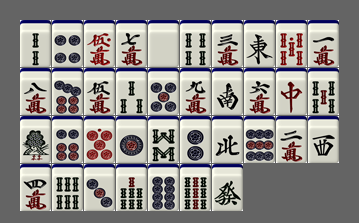0m: (84, 20, 115, 67)
0p: (84, 116, 115, 163)
0s: (276, 20, 307, 67)
1m: (308, 20, 339, 67)
1p: (116, 116, 147, 163)
1s: (20, 116, 51, 163)
1z: (244, 20, 275, 67)
2m: (276, 116, 307, 163)
2p: (180, 116, 211, 163)
2s: (20, 20, 51, 67)
2z: (212, 68, 243, 115)
3m: (212, 20, 243, 67)
3p: (84, 164, 115, 211)
3s: (116, 68, 147, 115)
3z: (308, 116, 339, 163)
4m: (20, 164, 51, 211)
4p: (52, 20, 83, 67)
4s: (180, 20, 211, 67)
4z: (212, 116, 243, 163)
5m: (84, 68, 115, 115)
5p: (148, 68, 179, 115)
5s: (308, 68, 339, 115)
5z: (148, 20, 179, 67)
6m: (244, 68, 275, 115)
6p: (52, 116, 83, 163)
6s: (52, 164, 83, 211)
6z: (212, 164, 243, 211)
7m: (116, 20, 147, 67)
7p: (52, 68, 83, 115)
7s: (116, 164, 147, 211)
7z: (276, 68, 307, 115)
8m: (20, 68, 51, 115)
8p: (148, 164, 179, 211)
8s: (148, 116, 179, 163)
9m: (180, 68, 211, 115)
9p: (244, 116, 275, 163)
9s: (180, 164, 211, 211)
